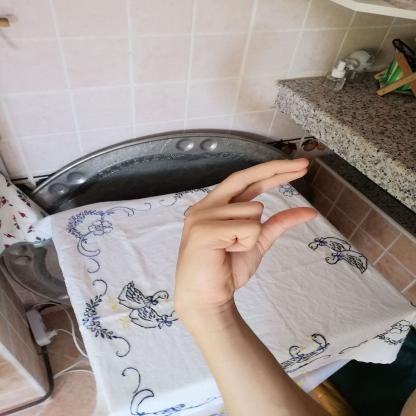DHELL: (164, 151, 326, 319)
